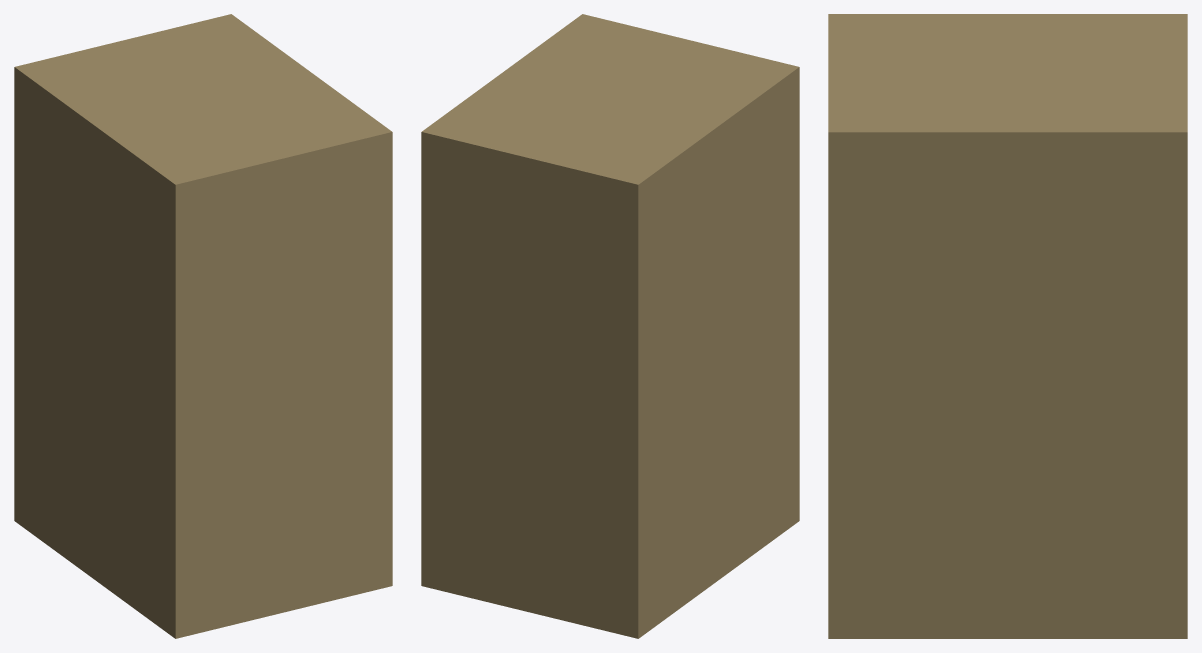
The model's file is synthetic-plant.obj.
3 views of the same model, side by side, from view 1: azimuth 30°, elevation 25°; view 2: azimuth 150°, elevation 25°; view 3: azimuth 270°, elevation 25° (orthographic). The views are drawn at different scales.
Visible parts, largest first — view 1: BufferTank; view 2: BufferTank; view 3: BufferTank.
Part boxes in pixels (x1=…): BufferTank: x1=14, y1=14, x2=392, y2=638; BufferTank: x1=421, y1=14, x2=799, y2=638; BufferTank: x1=828, y1=14, x2=1187, y2=638.
Bounding box in the file's own units: 2.8 × 5.6 × 3.6.
